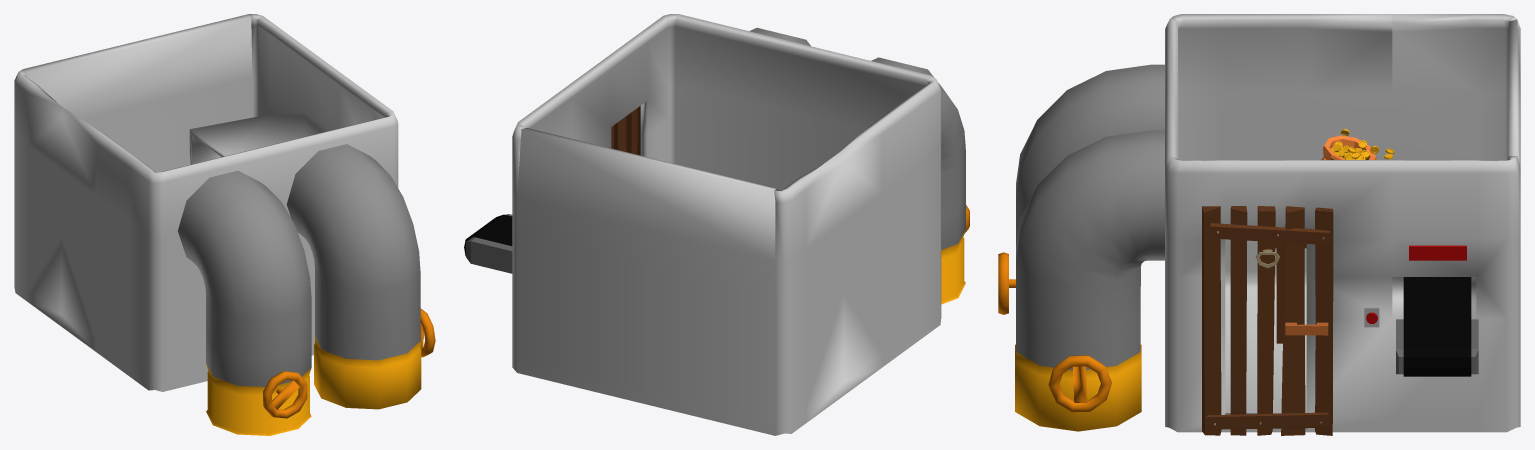
Rendered from miner.fbx.
3 renders of one model, left to right at view 1: azimuth 30°, elevation 25°; view 2: azimuth 150°, elevation 25°; view 3: azimuth 270°, elevation 25°, orthographic. The views are drawn at different scales.
Parts seen in each view (by area): view 1: duvar.005, duvar.004; view 2: duvar.005, duvar.004; view 3: duvar.005, duvar.004.
Part boxes in pixels (x1=…): duvar.005: x1=14, y1=14, x2=398, y2=391; duvar.004: x1=178, y1=144, x2=435, y2=435; duvar.005: x1=512, y1=14, x2=941, y2=435; duvar.004: x1=464, y1=27, x2=969, y2=304; duvar.005: x1=1165, y1=14, x2=1520, y2=432; duvar.004: x1=998, y1=64, x2=1478, y2=435.
Bounding box in the file's own units: 380 × 270 × 452.
